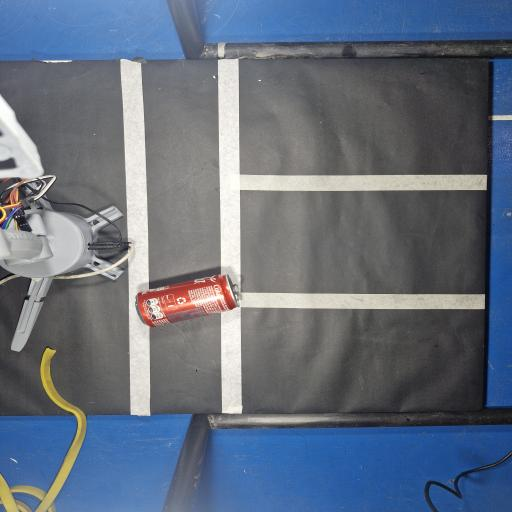lata: (136, 275, 240, 327)
